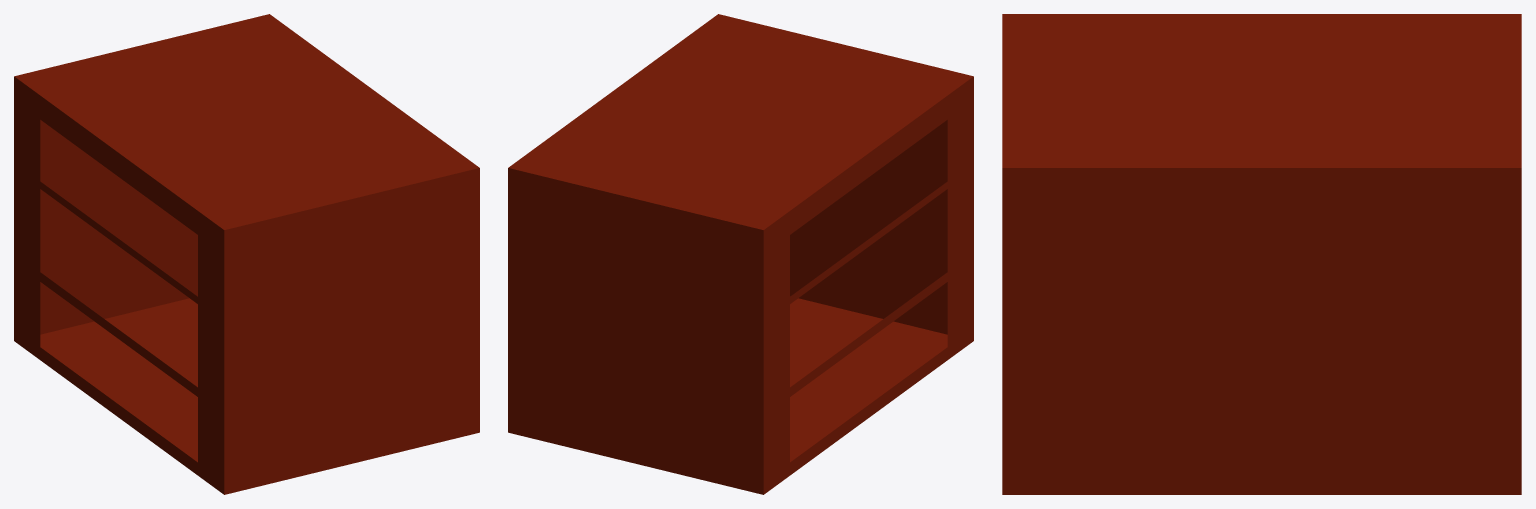
Rendered from Dresser.FBX.
The picture shows the model from 3 angles, left to right: view 1: azimuth 30°, elevation 25°; view 2: azimuth 150°, elevation 25°; view 3: azimuth 270°, elevation 25°; orthographic projection. The views are drawn at different scales.
Parts seen in each view (by area): view 1: Dresser; view 2: Dresser; view 3: Dresser.
Part boxes in pixels (box(x1,y1,x2,y2)): Dresser: box(14, 14, 479, 494); Dresser: box(508, 14, 973, 494); Dresser: box(1002, 14, 1521, 494).
Size of the model in its own units: 40.14 by 57.2 by 39.74.
